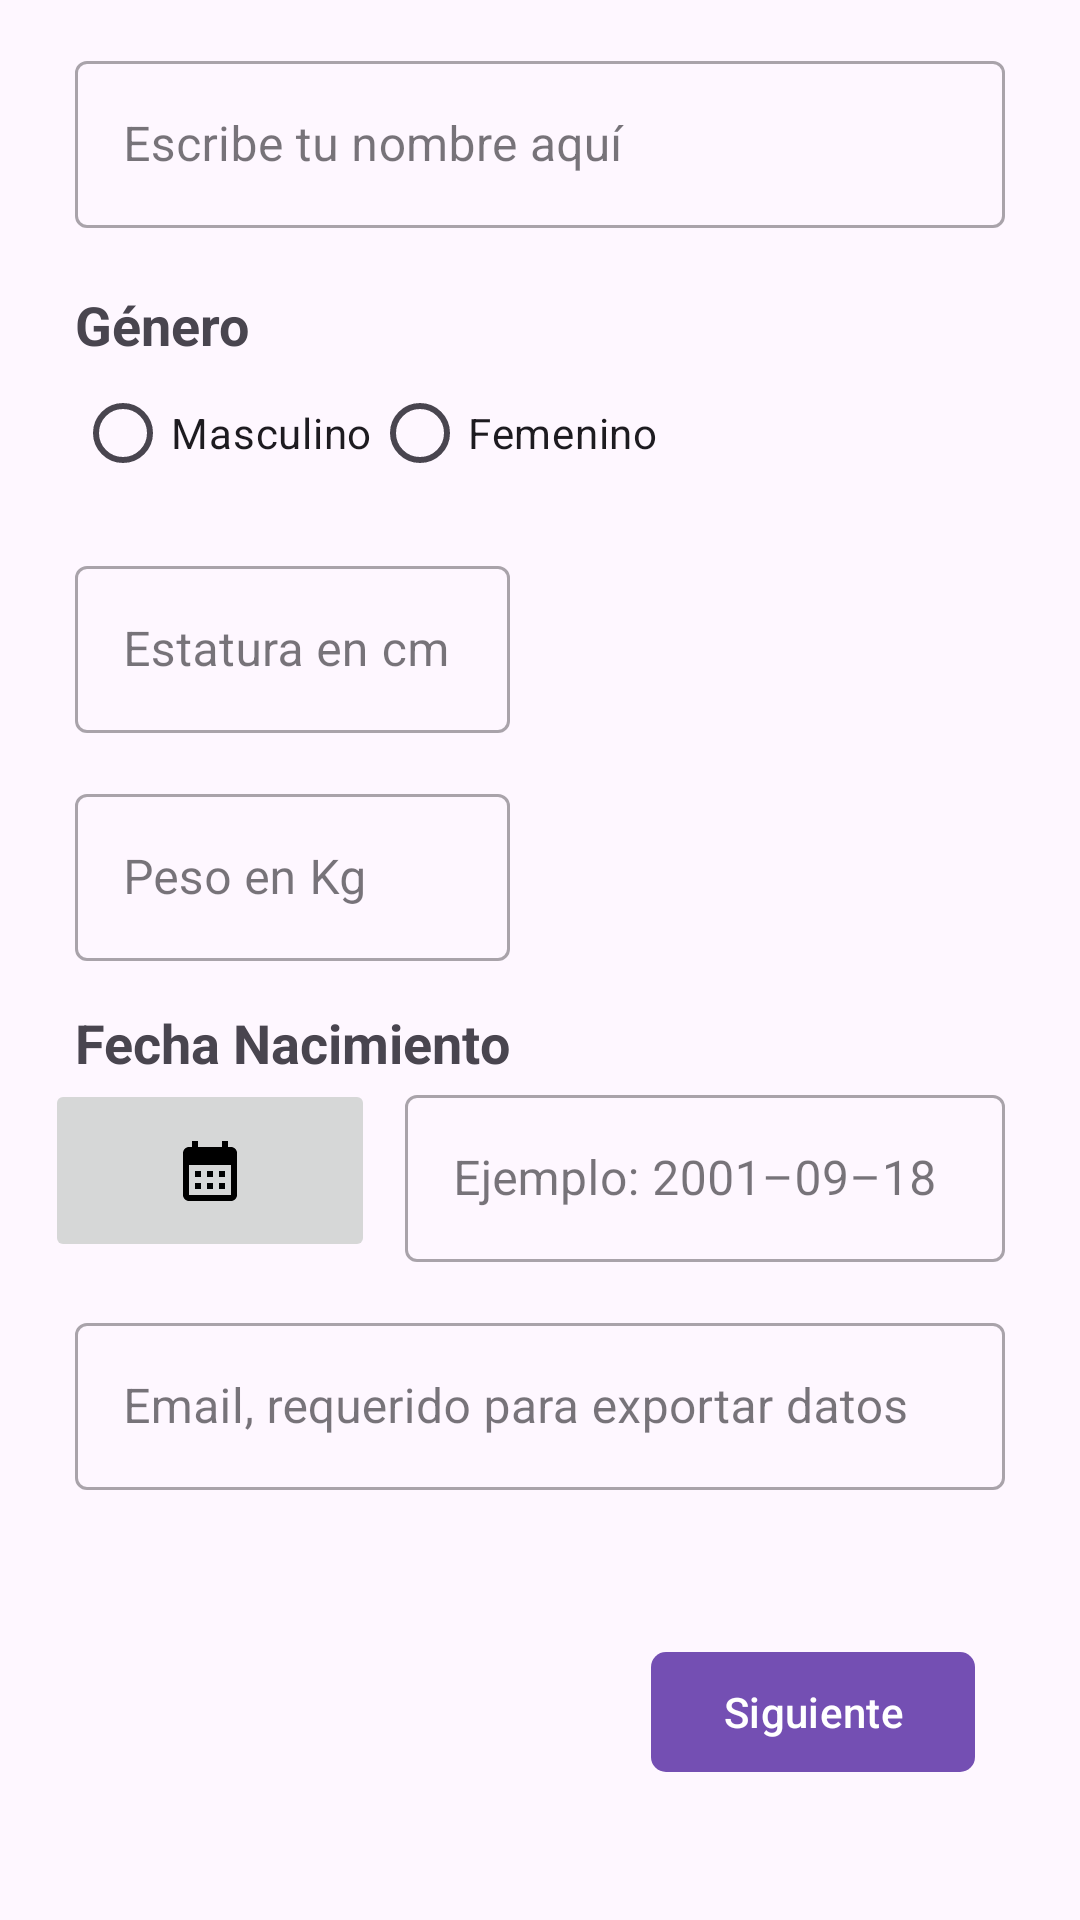

Where icons sit on this 1080 × 1920 app screen, as region(x1, y1, x2, y2):
Calendario: region(57, 1097, 363, 1244)
